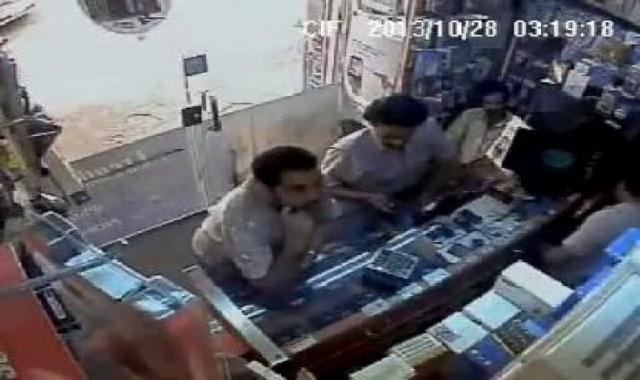no_hairnet: (351, 95, 441, 144), (254, 143, 328, 195)
